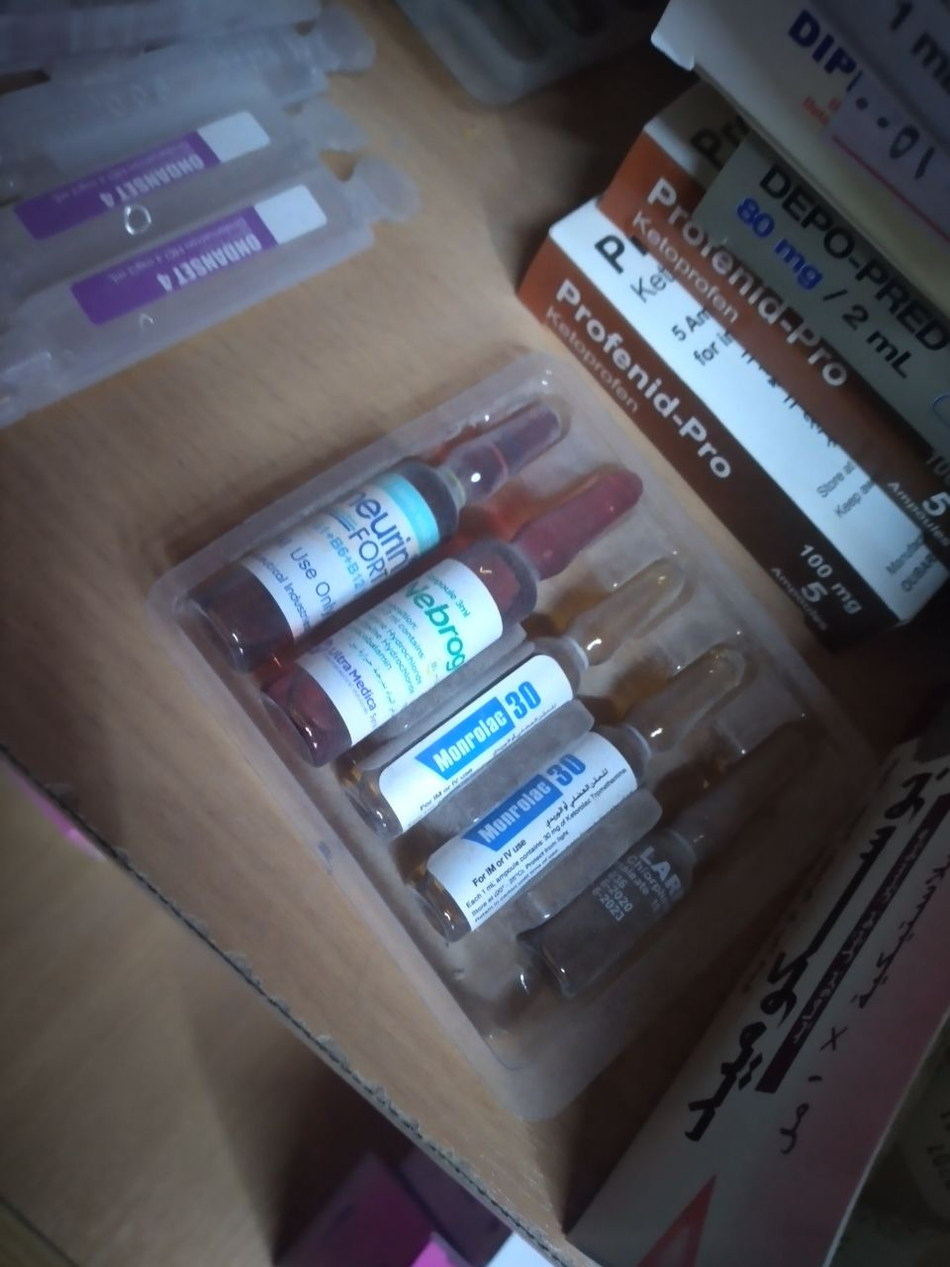Medicine: (290, 452, 660, 772), (524, 693, 858, 1033), (439, 637, 772, 950), (379, 548, 699, 845), (20, 145, 429, 353), (0, 73, 350, 313), (228, 403, 557, 647)
